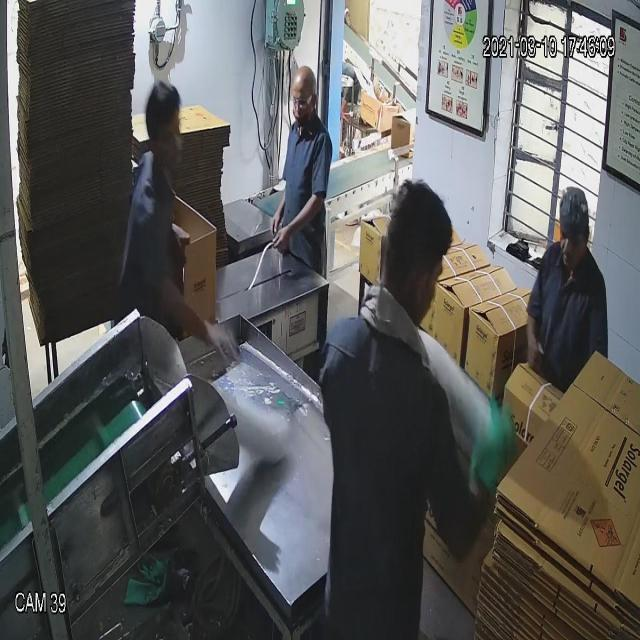gloves: (462, 392, 523, 513)
no-gloves: (143, 255, 240, 370), (267, 195, 333, 269)
